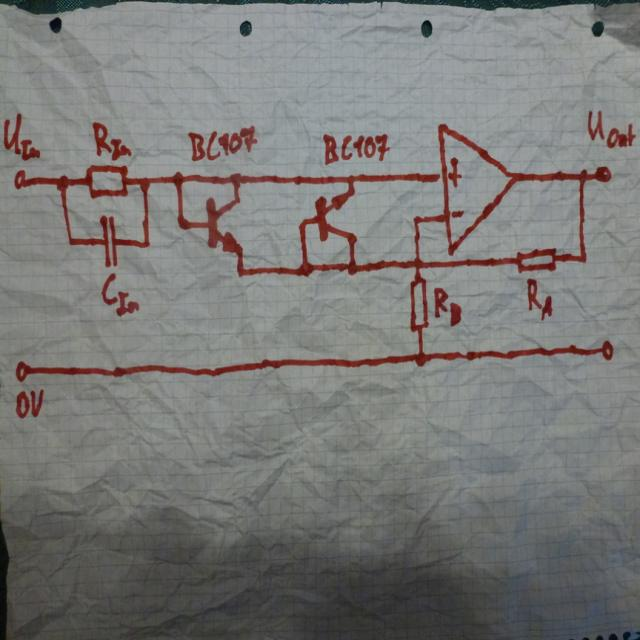capacitor: (96, 212, 124, 270)
junction: (55, 172, 70, 193), (297, 260, 313, 278), (137, 172, 151, 192), (174, 214, 190, 231), (170, 169, 184, 188), (228, 170, 242, 188), (413, 350, 427, 368), (346, 258, 358, 276), (576, 250, 588, 267), (576, 167, 588, 184), (411, 254, 423, 270), (234, 264, 246, 278), (410, 213, 421, 226), (141, 236, 151, 250), (344, 172, 355, 184), (66, 234, 75, 248), (297, 217, 307, 229)
resistor: (83, 162, 130, 198), (515, 245, 558, 275), (408, 275, 430, 332)
terminal: (593, 164, 613, 183), (599, 338, 615, 361), (12, 167, 27, 191), (14, 358, 28, 381)
text: (186, 122, 259, 162), (320, 130, 390, 166), (585, 108, 636, 149), (1, 111, 42, 162), (99, 271, 140, 319), (90, 119, 132, 161), (431, 284, 462, 328), (525, 275, 554, 321), (14, 386, 46, 420)
transistor: (313, 188, 357, 245), (204, 194, 244, 256)
